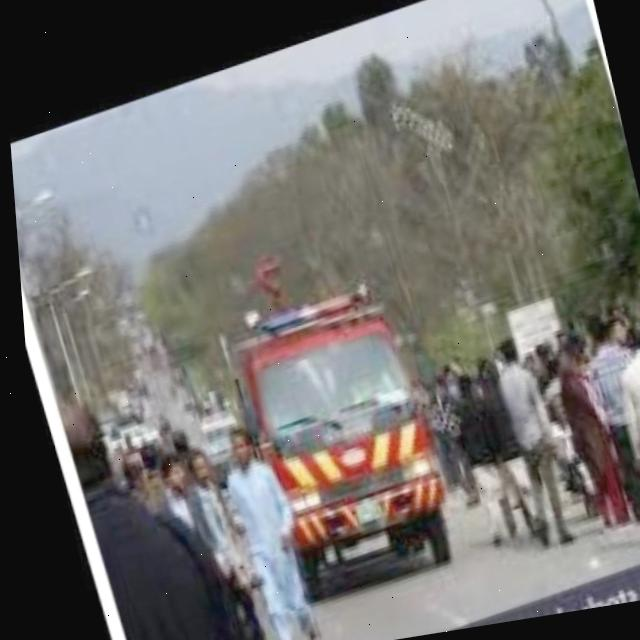emergency: (206, 277, 463, 604)
